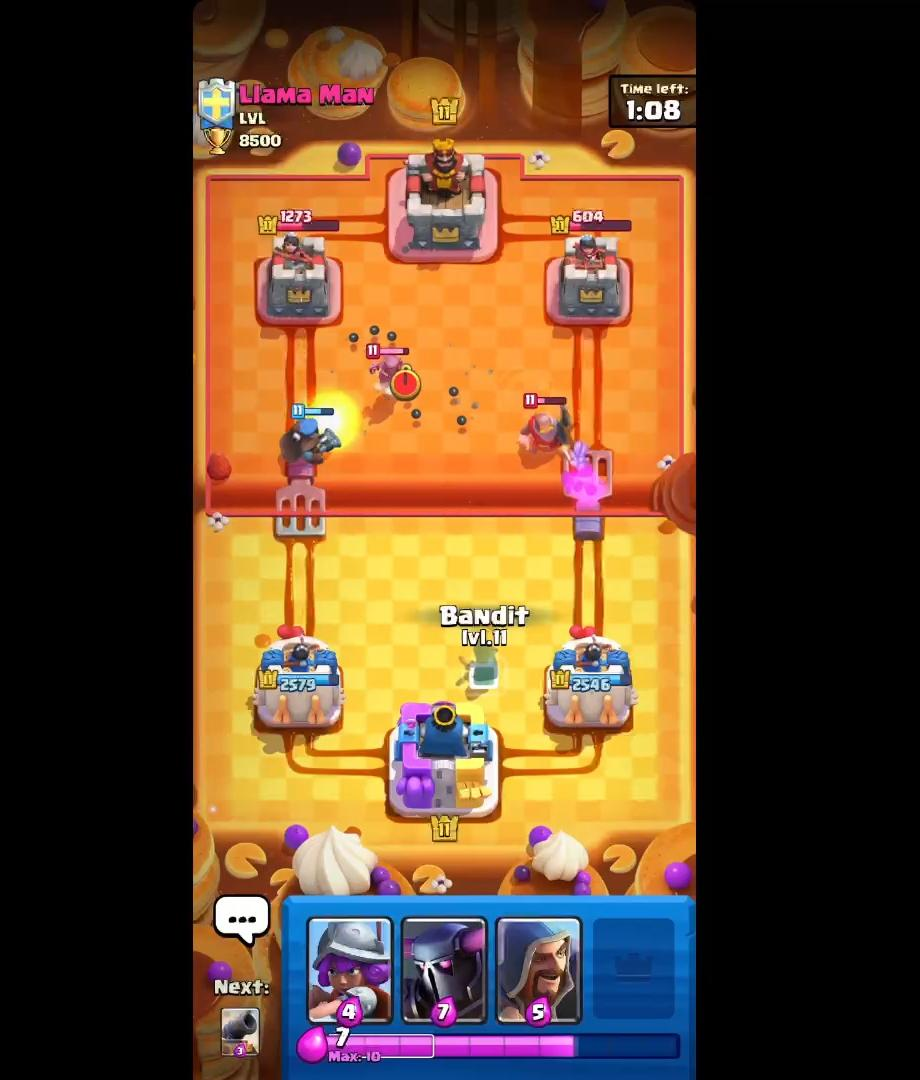Knight: (506, 387, 578, 460)
